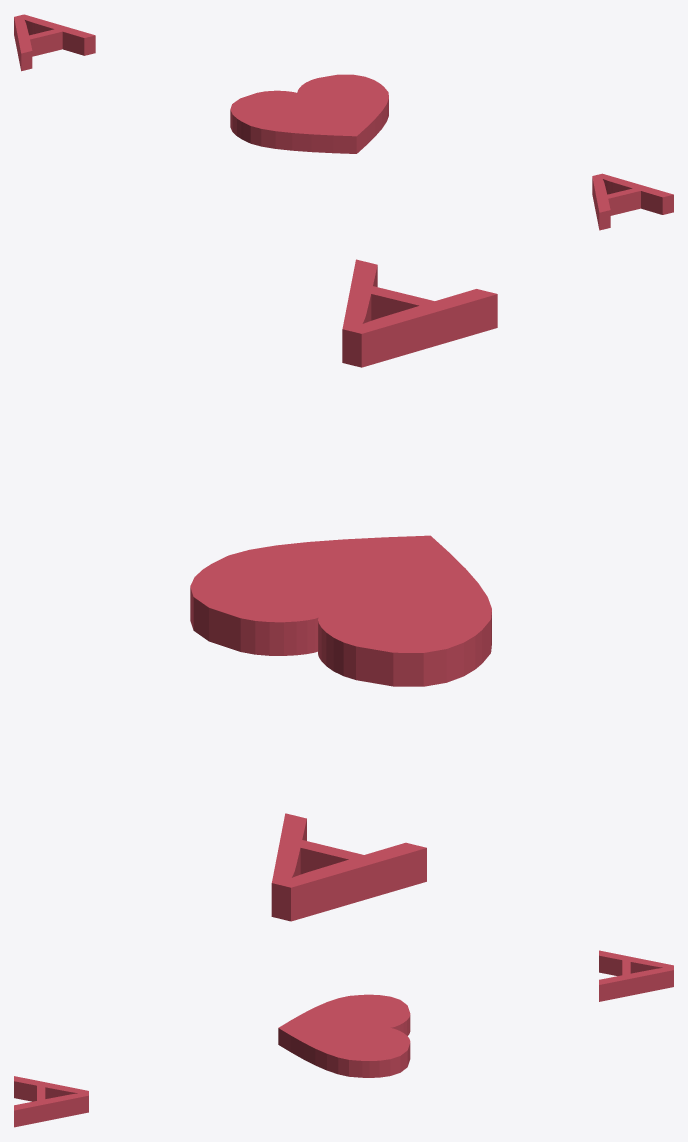
File: ace_hearts.glb
3 views of the same model, one above another, from view 1: azimuth 30°, elevation 25°; view 2: azimuth 150°, elevation 25°; view 3: azimuth 270°, elevation 25° (orthographic). The views are drawn at different scales.
Parts seen in each view (by area): view 1: Mesh_Mesh_head_geo.001_lambert2SG.001; view 2: Mesh_Mesh_head_geo.001_lambert2SG.001; view 3: Mesh_Mesh_head_geo.001_lambert2SG.001.
Boxes of the visible parts, left/top/right/bottom form: Mesh_Mesh_head_geo.001_lambert2SG.001: left=14, top=14, right=673, bottom=230; Mesh_Mesh_head_geo.001_lambert2SG.001: left=190, top=259, right=497, bottom=921; Mesh_Mesh_head_geo.001_lambert2SG.001: left=14, top=950, right=673, bottom=1127.
Size of the model in its own units: 20.07 by 0.988 by 34.95.
